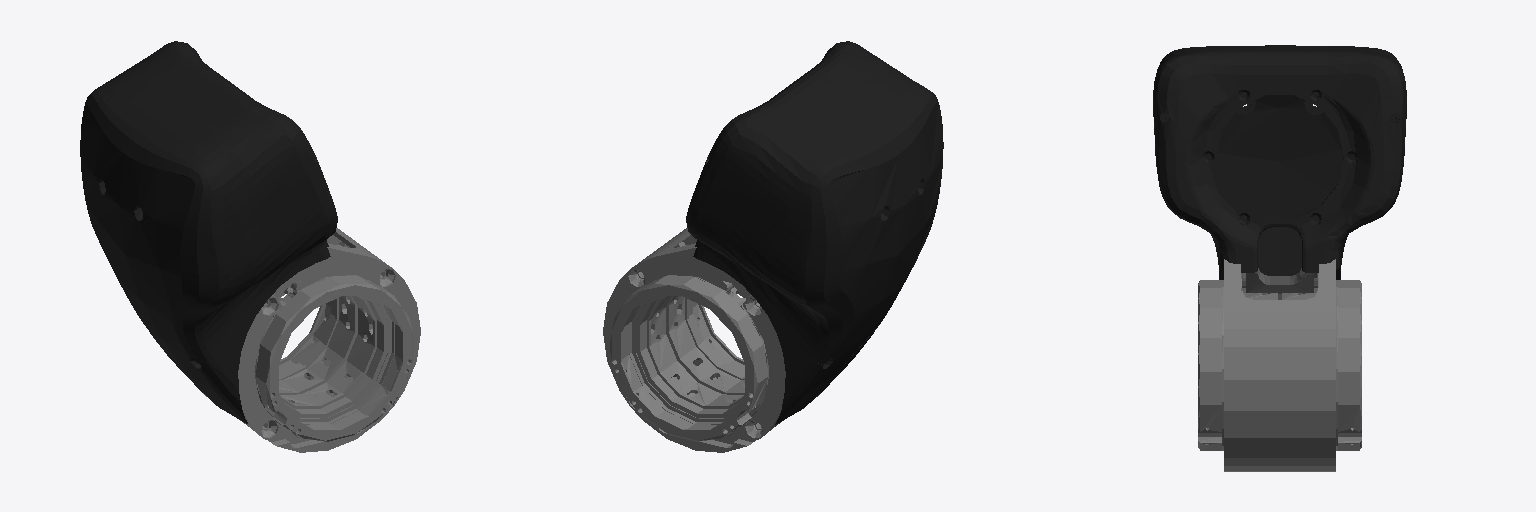
Rendered from asm0001_vrml_07_prt.obj.
3 views of the same model, side by side, from view 1: azimuth 30°, elevation 25°; view 2: azimuth 150°, elevation 25°; view 3: azimuth 270°, elevation 25° (orthographic).
Parts seen in each view (by area): view 1: ShapeIndexedFaceSet_ShapeIndexedFaceSet.016, ShapeIndexedFaceSet.005_ShapeIndexedFaceSet.021, ShapeIndexedFaceSet.006_ShapeIndexedFaceSet, ShapeIndexedFaceSet.004_ShapeIndexedFaceSet.020, ShapeIndexedFaceSet.003_ShapeIndexedFaceSet.019, ShapeIndexedFaceSet.001_ShapeIndexedFaceSet.017, ShapeIndexedFaceSet.002_ShapeIndexedFaceSet.018; view 2: ShapeIndexedFaceSet_ShapeIndexedFaceSet.016, ShapeIndexedFaceSet.003_ShapeIndexedFaceSet.019, ShapeIndexedFaceSet.002_ShapeIndexedFaceSet.018, ShapeIndexedFaceSet.004_ShapeIndexedFaceSet.020, ShapeIndexedFaceSet.005_ShapeIndexedFaceSet.021, ShapeIndexedFaceSet.001_ShapeIndexedFaceSet.017, ShapeIndexedFaceSet.006_ShapeIndexedFaceSet; view 3: ShapeIndexedFaceSet.001_ShapeIndexedFaceSet.017, ShapeIndexedFaceSet.004_ShapeIndexedFaceSet.020, ShapeIndexedFaceSet_ShapeIndexedFaceSet.016, ShapeIndexedFaceSet.002_ShapeIndexedFaceSet.018, ShapeIndexedFaceSet.006_ShapeIndexedFaceSet, ShapeIndexedFaceSet.003_ShapeIndexedFaceSet.019, ShapeIndexedFaceSet.005_ShapeIndexedFaceSet.021.
Part boxes in pixels (bbox=[...]): ShapeIndexedFaceSet_ShapeIndexedFaceSet.016: bbox=[80, 42, 324, 423]; ShapeIndexedFaceSet.005_ShapeIndexedFaceSet.021: bbox=[249, 260, 404, 439]; ShapeIndexedFaceSet.006_ShapeIndexedFaceSet: bbox=[256, 276, 413, 441]; ShapeIndexedFaceSet.004_ShapeIndexedFaceSet.020: bbox=[238, 228, 420, 452]; ShapeIndexedFaceSet.003_ShapeIndexedFaceSet.019: bbox=[203, 229, 357, 396]; ShapeIndexedFaceSet.001_ShapeIndexedFaceSet.017: bbox=[172, 41, 337, 262]; ShapeIndexedFaceSet.002_ShapeIndexedFaceSet.018: bbox=[279, 301, 330, 372]; ShapeIndexedFaceSet_ShapeIndexedFaceSet.016: bbox=[699, 42, 943, 424]; ShapeIndexedFaceSet.003_ShapeIndexedFaceSet.019: bbox=[619, 260, 774, 439]; ShapeIndexedFaceSet.002_ShapeIndexedFaceSet.018: bbox=[610, 276, 767, 441]; ShapeIndexedFaceSet.004_ShapeIndexedFaceSet.020: bbox=[603, 228, 785, 452]; ShapeIndexedFaceSet.005_ShapeIndexedFaceSet.021: bbox=[666, 229, 820, 396]; ShapeIndexedFaceSet.001_ShapeIndexedFaceSet.017: bbox=[686, 41, 851, 262]; ShapeIndexedFaceSet.006_ShapeIndexedFaceSet: bbox=[693, 302, 744, 372]; ShapeIndexedFaceSet.001_ShapeIndexedFaceSet.017: bbox=[1154, 56, 1406, 272]; ShapeIndexedFaceSet.004_ShapeIndexedFaceSet.020: bbox=[1224, 259, 1335, 471]; ShapeIndexedFaceSet_ShapeIndexedFaceSet.016: bbox=[1153, 45, 1406, 279]; ShapeIndexedFaceSet.002_ShapeIndexedFaceSet.018: bbox=[1338, 280, 1361, 450]; ShapeIndexedFaceSet.006_ShapeIndexedFaceSet: bbox=[1198, 280, 1221, 450]; ShapeIndexedFaceSet.003_ShapeIndexedFaceSet.019: bbox=[1282, 280, 1337, 470]; ShapeIndexedFaceSet.005_ShapeIndexedFaceSet.021: bbox=[1222, 280, 1277, 470].
Size of the model in its own units: 3.98 by 5.14 by 3.2.